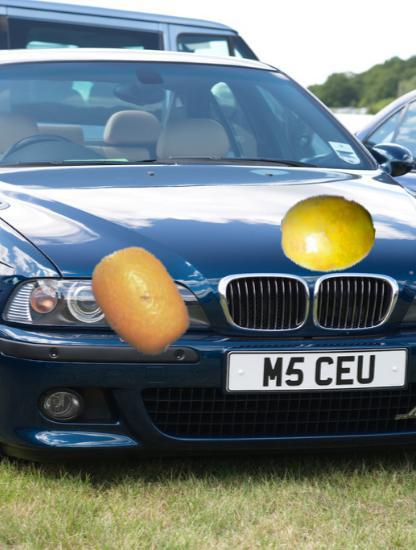Kumquats: (82, 243, 198, 359)
Maracuja: (280, 186, 375, 281)
